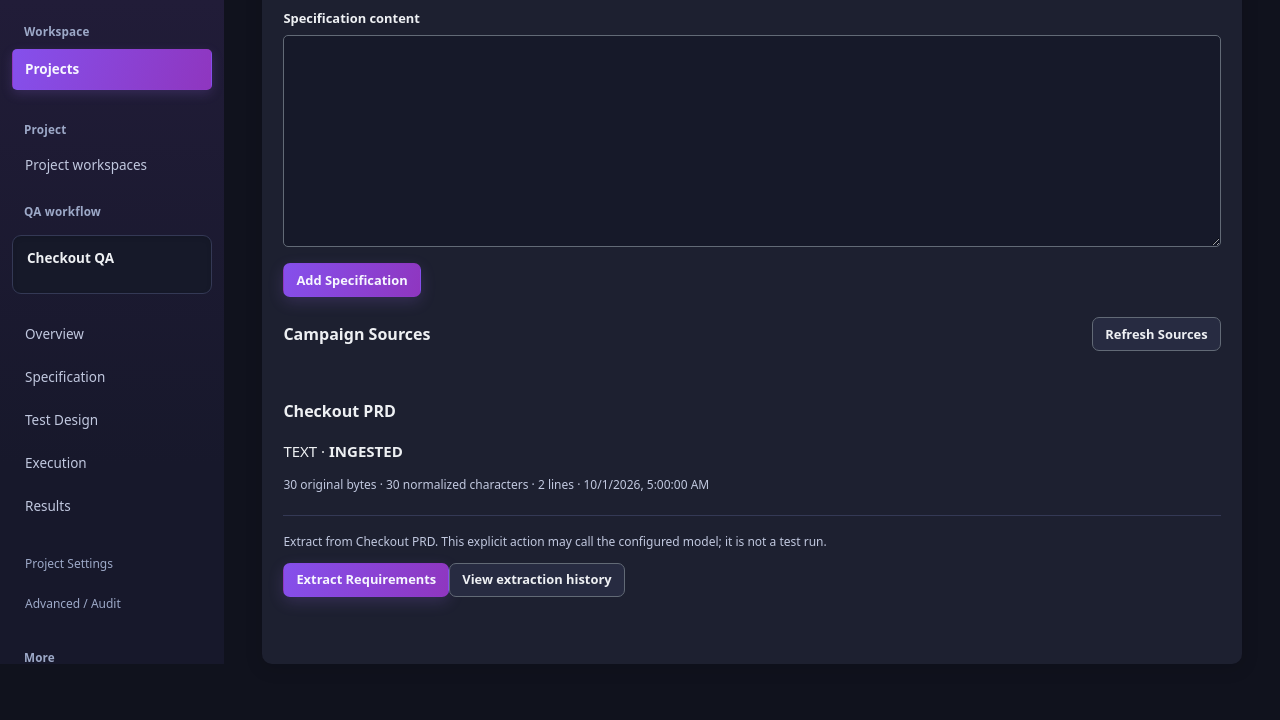
it: source ingestion and explicit extraction › does not retry extraction error 409 and never shows raw provider data
(page scrolled)
Click the button "Extract Requirements" at (366, 580), box x1=283 y1=563 x2=449 y2=597
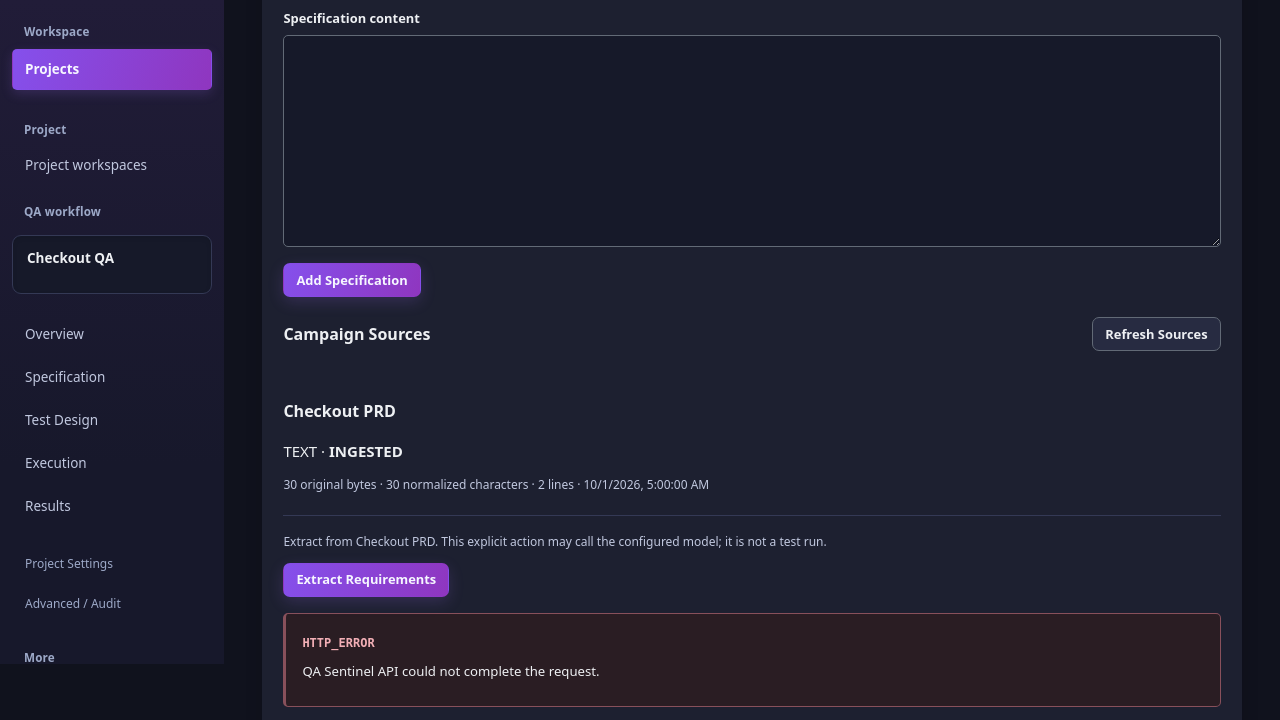
Result: the message shows "HTTP_ERROR" at x1=302 y1=636 x2=375 y2=650
